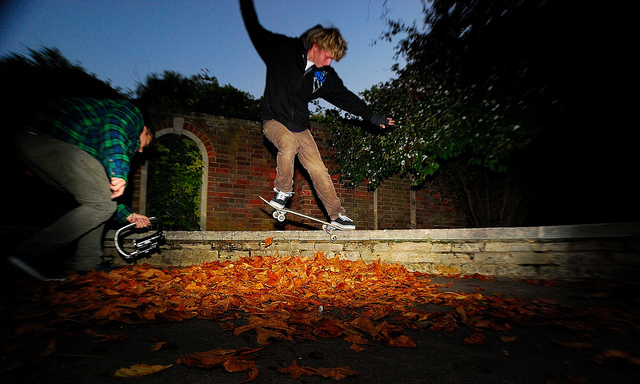Person: (239, 1, 378, 246)
